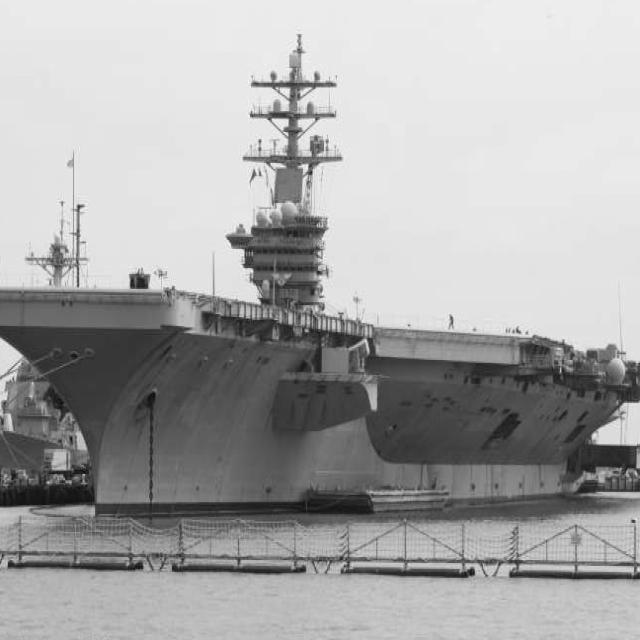Portanaves: (1, 20, 640, 536)
